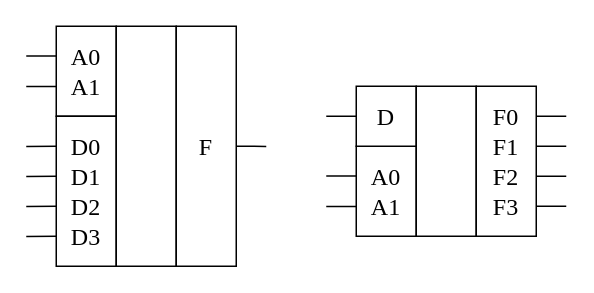
Image size: 594x293. Some labels were removed from this diagram. The shapes that lost their labels are listed below. From the top down, each one's box as (x1, y1, x2, y2) in pixels, then its label:
(115, 25, 176, 266): MS
(415, 85, 476, 236): DMS
